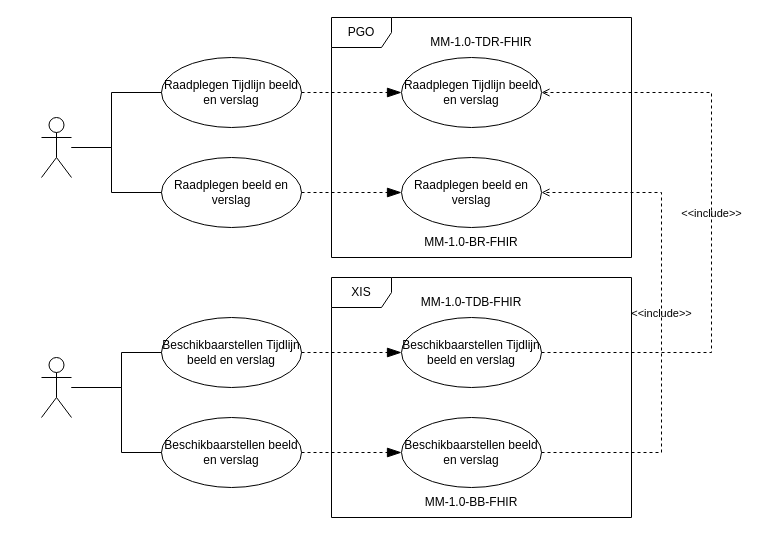
Image size: 759x535. Some labels were removed from this diagram. Each missing label, with the centre of its shape:
"Persoon" belongs at [56,147].
"Zorgaanbieder" belongs at [56,387].
